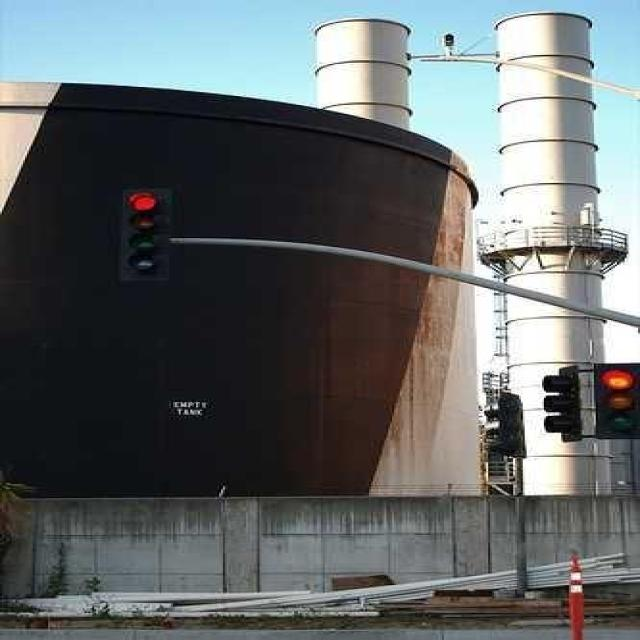Traffic Light -Red-: (112, 188, 169, 277), (586, 360, 640, 441)
